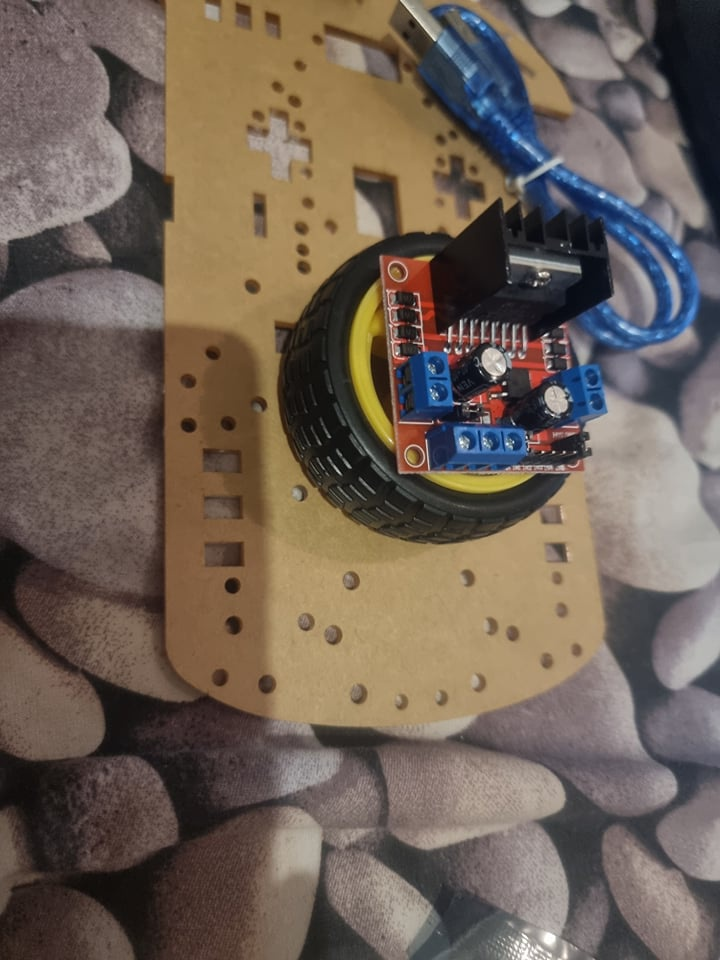MOTOR: (378, 185, 612, 475)
